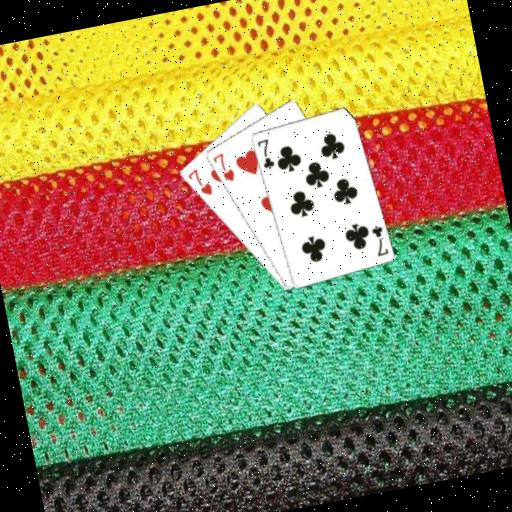7C: (253, 135, 277, 172), (367, 221, 390, 259)
7H: (183, 163, 215, 200), (209, 148, 238, 186)
